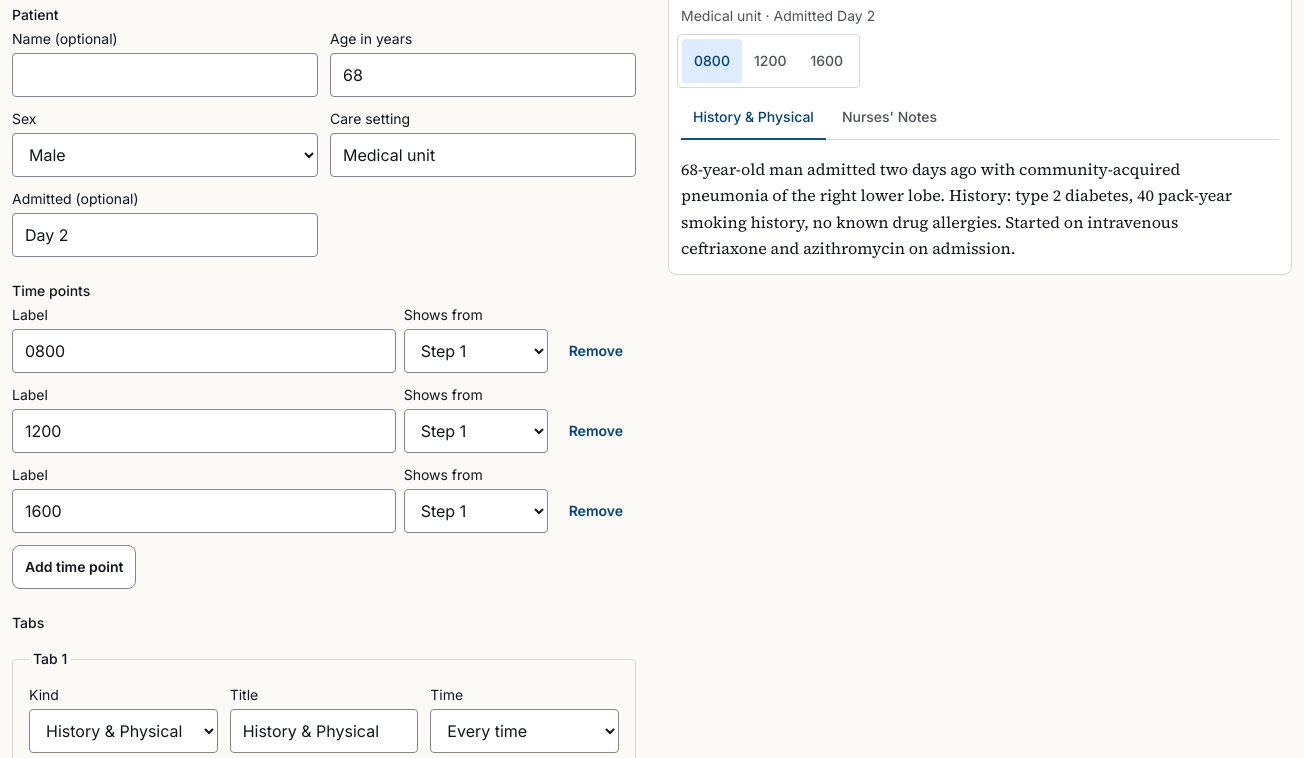
Test: EhrEditor › removing a time point clears it from every section charted then
This screenshot has width=1304, height=758.
Click the 3rd button "Remove": (596,511) [556,489,636,533]
(page scrolled)
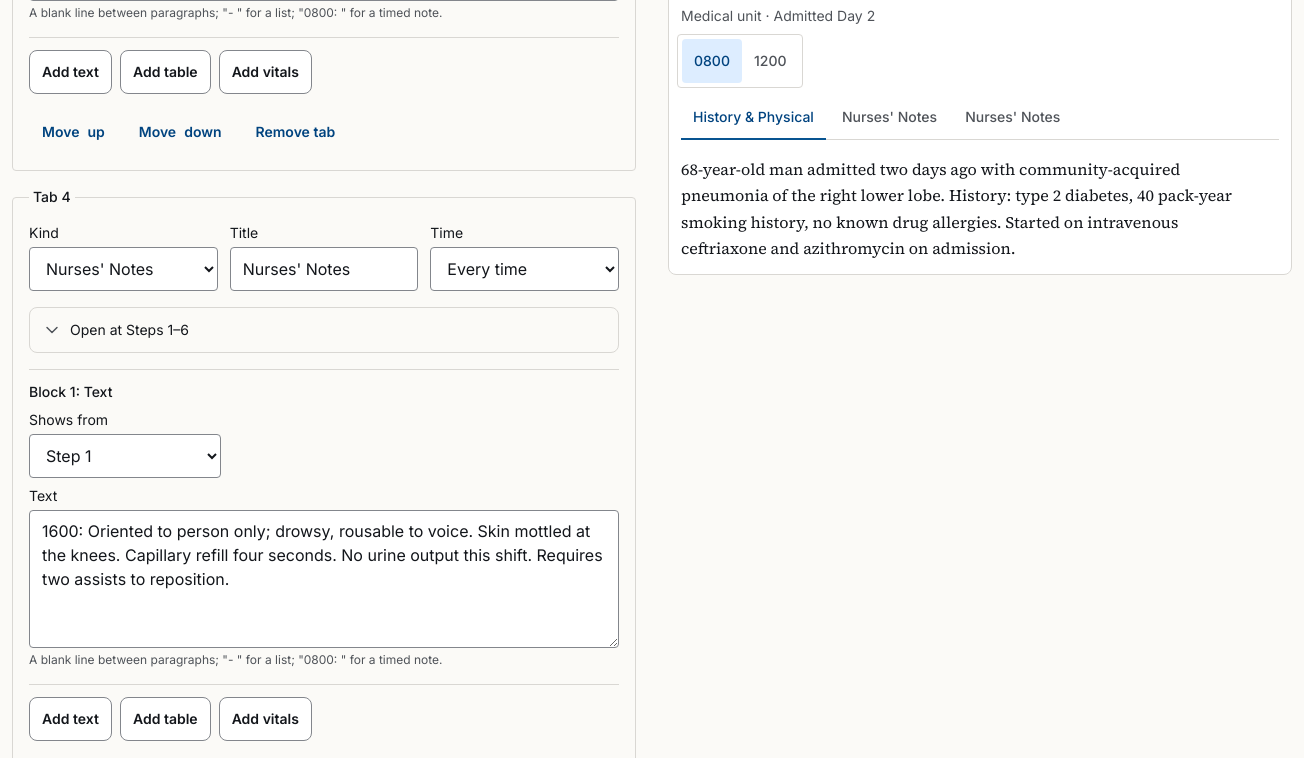
expect the field labelled "Time point 3, Label" is not shown: met
expect the dropdown named "Tab 4, Time" shows "Every time": met, box [430,247,619,291]
